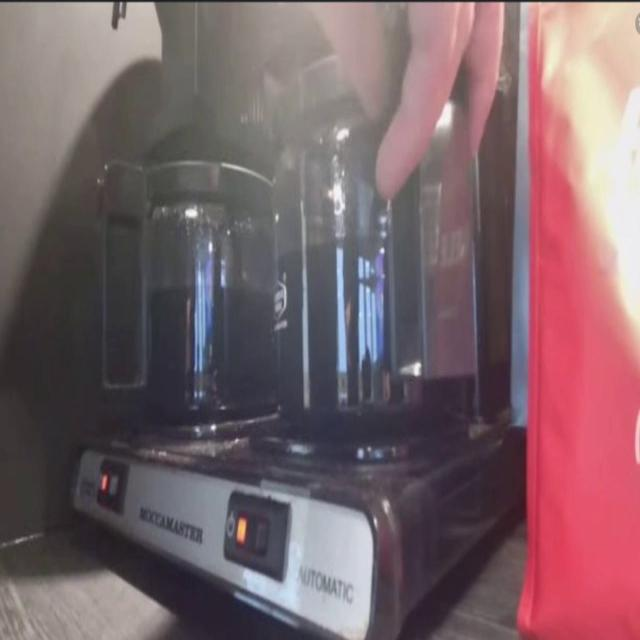coffee: (280, 244, 454, 421), (147, 209, 278, 423)
